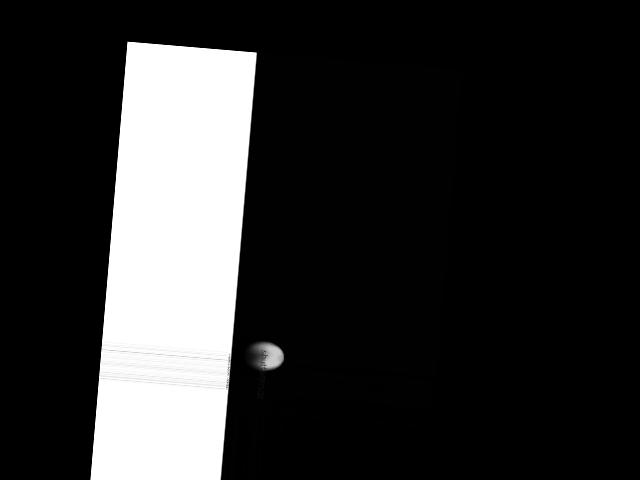egg: (242, 339, 285, 372)
